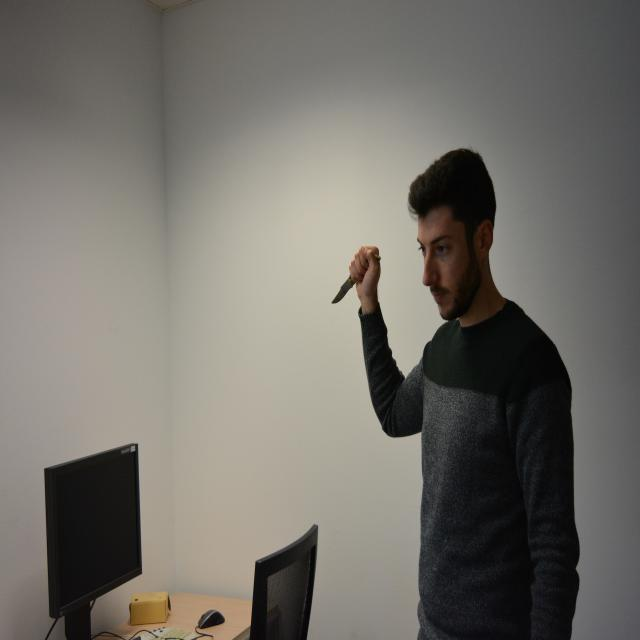knife: (331, 274, 354, 321)
